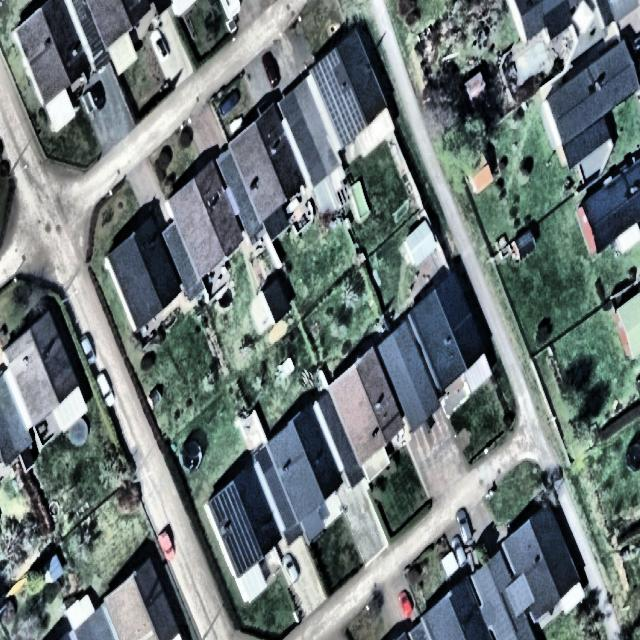roof_pv: (326, 107, 368, 145), (226, 533, 262, 574), (210, 481, 247, 520), (308, 49, 345, 77), (312, 78, 341, 106), (342, 87, 361, 106), (228, 520, 255, 532)
